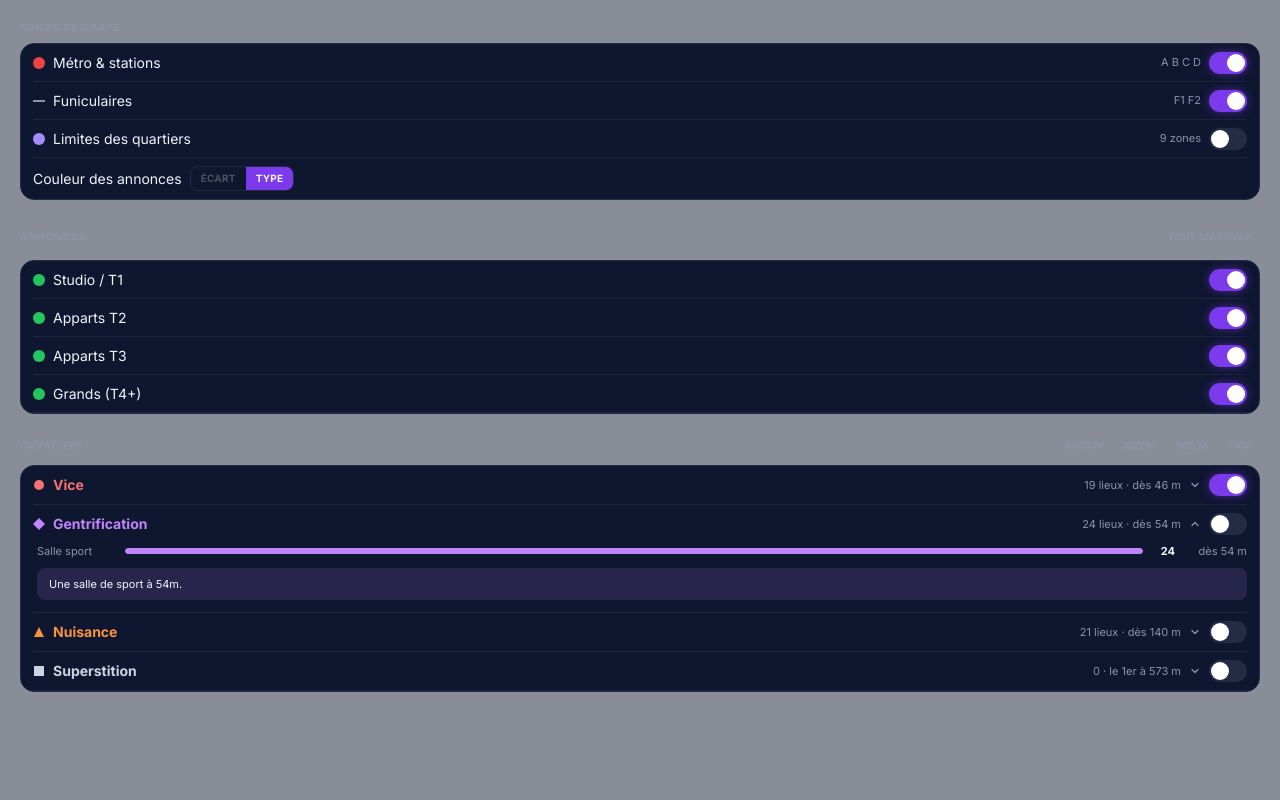
Test: CalquesView › only ever expands one cavalier row at a time
Click the button "Vice 19 lieux · dès 46 m" at (68, 484), box left=33, top=475, right=1201, bottom=495
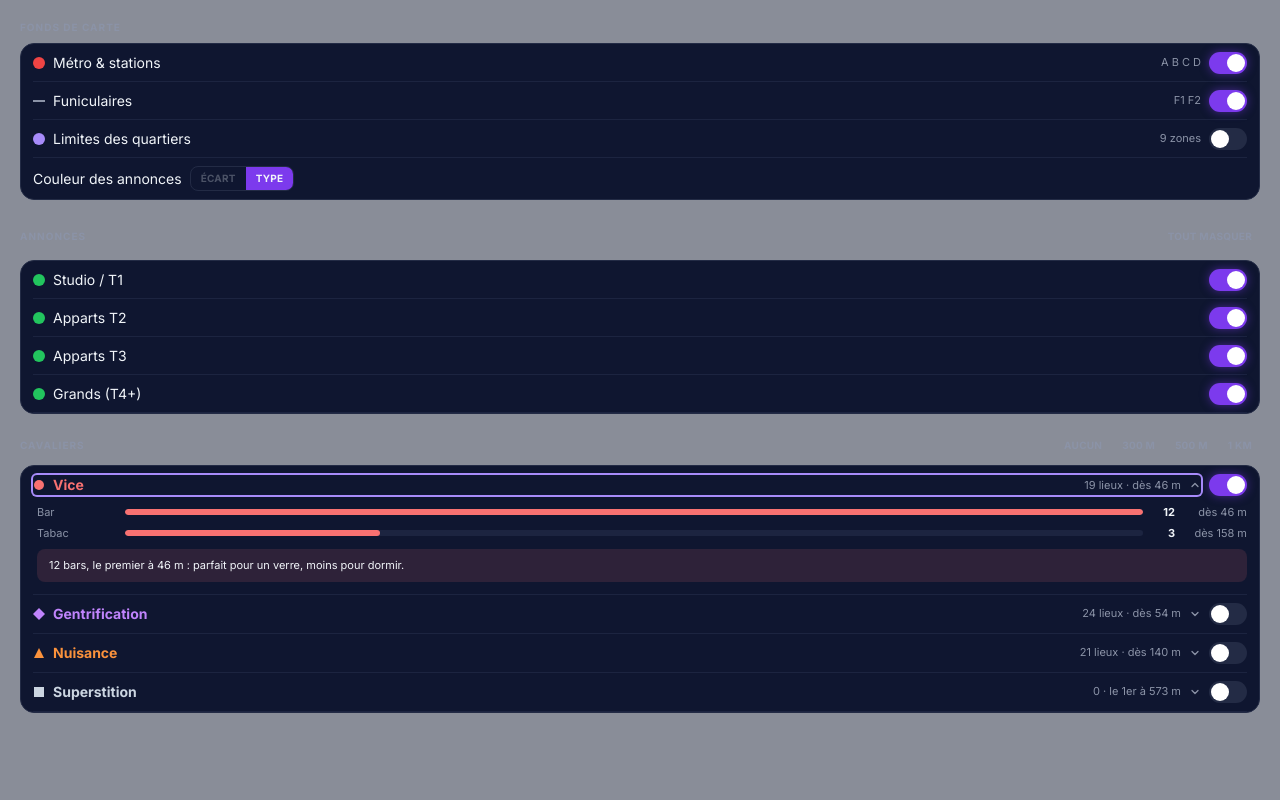
Expected: the button "Vice 19 lieux · dès 46 m" is expanded, left=33, top=475, right=1201, bottom=495
Expected: the button "Gentrification 24 lieux · dès 54 m" is collapsed, left=33, top=604, right=1201, bottom=624
